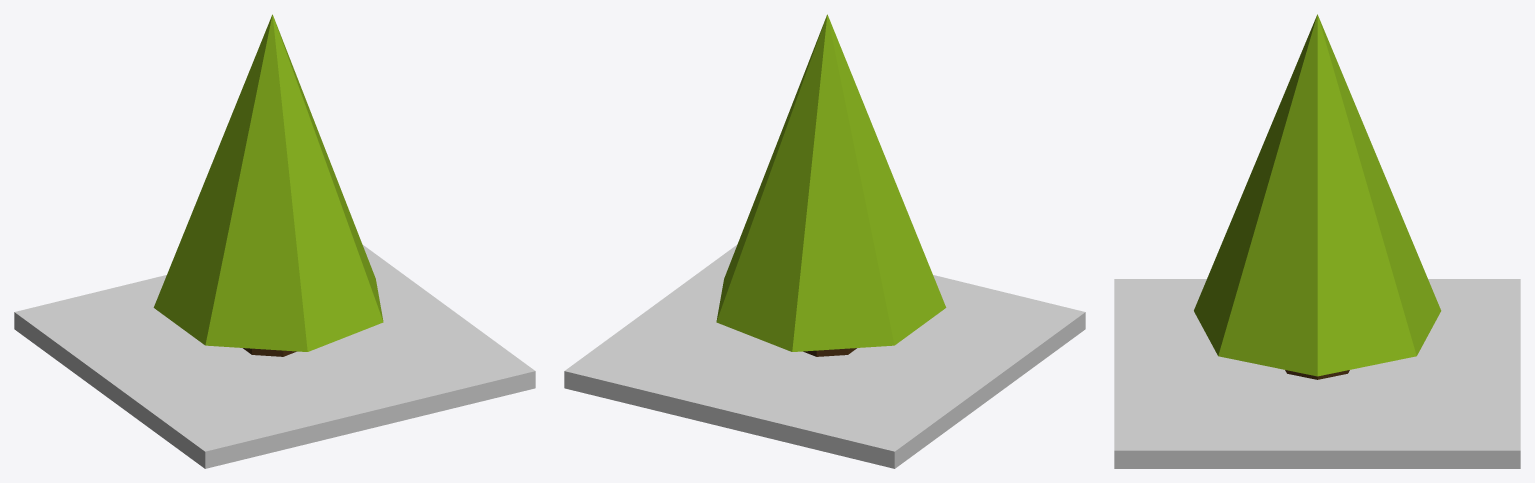
Rendered from Wood.FBX.
3 renders of one model, left to right at view 1: azimuth 30°, elevation 25°; view 2: azimuth 150°, elevation 25°; view 3: azimuth 270°, elevation 25°, orthographic. The views are drawn at different scales.
Visible parts, largest first — view 1: Box007, Cone008; view 2: Box007, Cone008; view 3: Box007, Cone008.
Part boxes in pixels (<box>): Box007: <box>14,244,535,468</box>; Cone008: <box>153,14,383,356</box>; Box007: <box>564,245,1085,468</box>; Cone008: <box>716,14,946,356</box>; Box007: <box>1114,279,1520,468</box>; Cone008: <box>1194,14,1441,379</box>.
Size of the model in its own units: 1 by 0.999 by 1.
